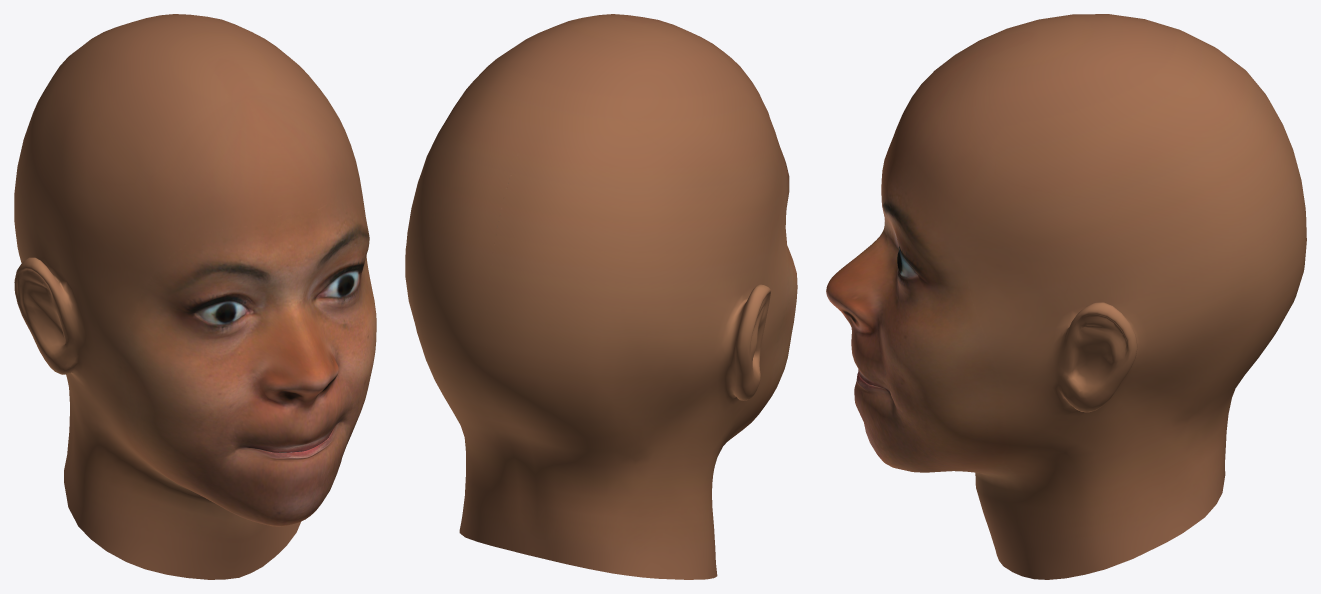
The model's file is v332_obj_ModifierLipSuck(AU28).obj.
The picture shows the model from 3 angles, left to right: view 1: azimuth 30°, elevation 25°; view 2: azimuth 150°, elevation 25°; view 3: azimuth 270°, elevation 25°; orthographic projection. The views are drawn at different scales.
Parts seen in each view (by area): view 1: HeadHires; view 2: HeadHires; view 3: HeadHires.
Part boxes in pixels (x1,y1,x2,y2): HeadHires: [14, 14, 376, 579]; HeadHires: [405, 14, 797, 579]; HeadHires: [826, 14, 1306, 579].
Size of the model in its own units: 187 by 282 by 233.
